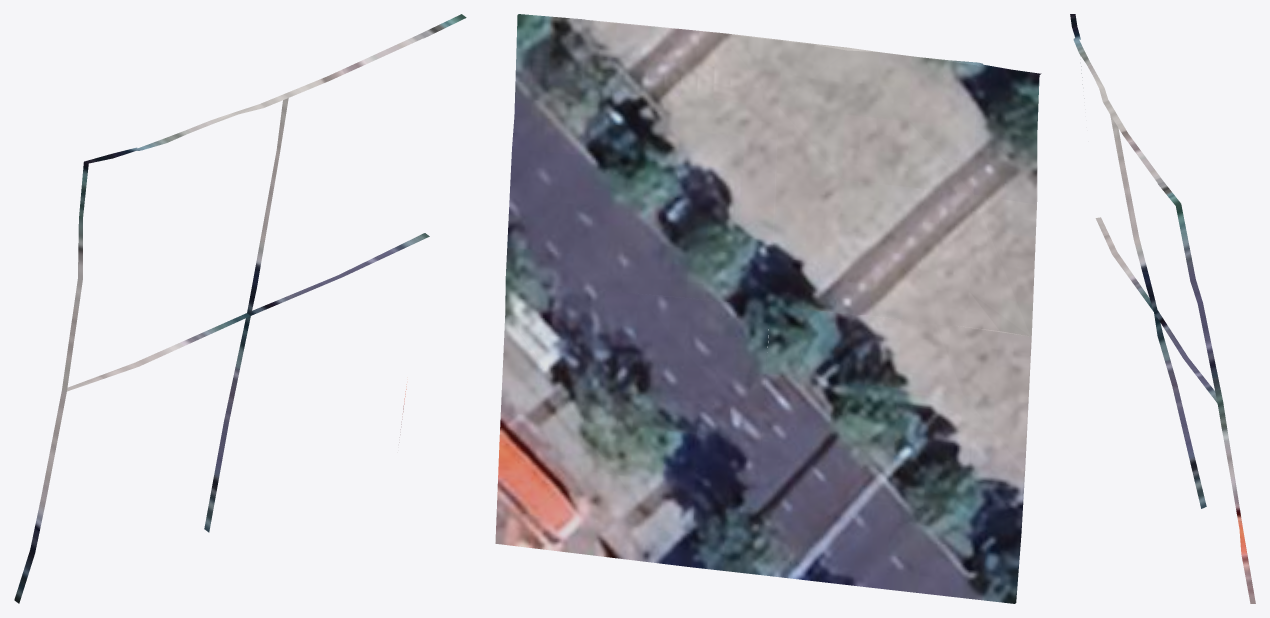
3 views of the same model, side by side, from view 1: azimuth 30°, elevation 25°; view 2: azimuth 150°, elevation 25°; view 3: azimuth 270°, elevation 25° (orthographic). The views are drawn at different scales.
Bounding box in the file's own units: 38.72 × 37.81 × 15.43.
Materials: 1 (1 with a texture image).
